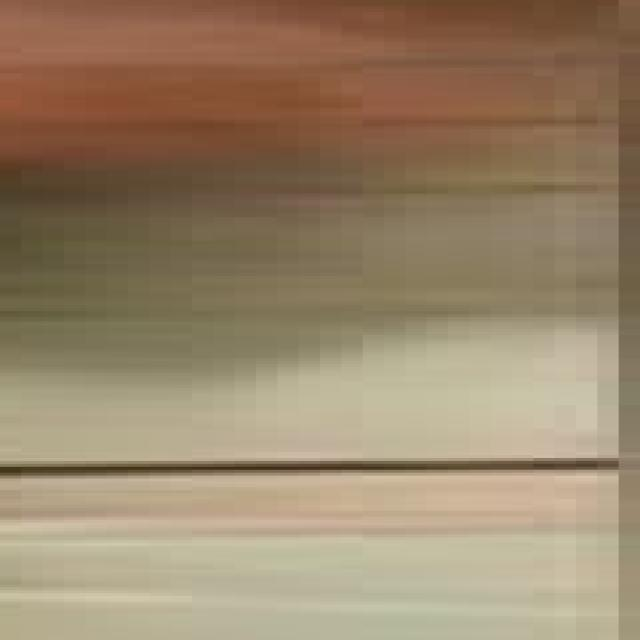smoke: (21, 0, 640, 640)
